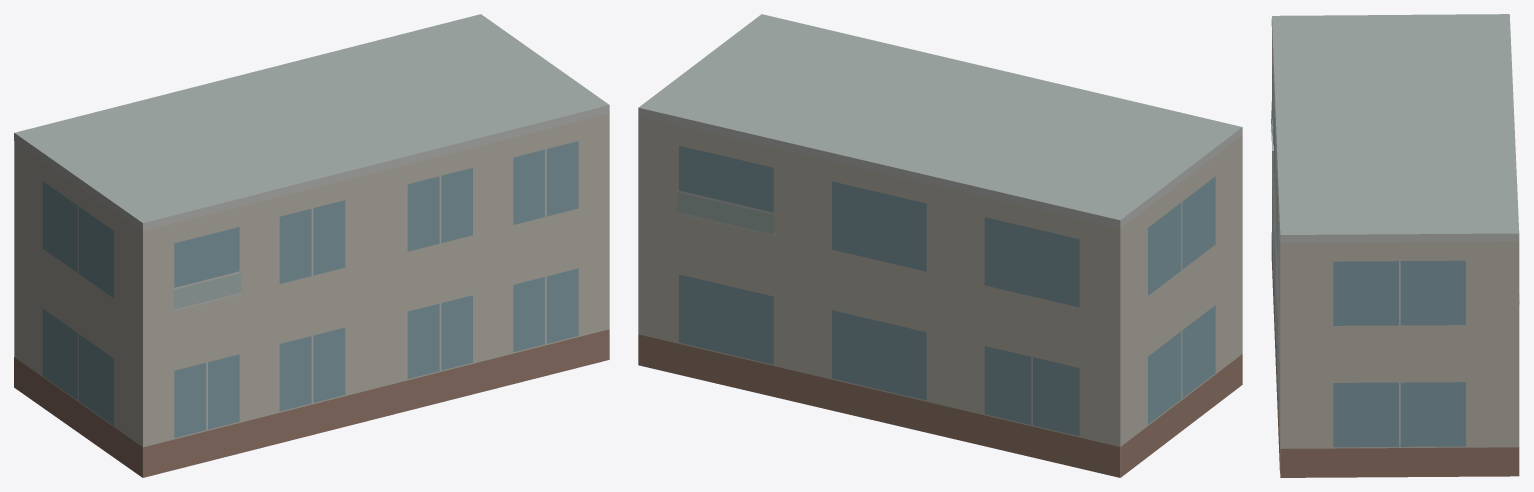
File: survey-upis-32635954.glb
3 renders of one model, left to right at view 1: azimuth 30°, elevation 25°; view 2: azimuth 150°, elevation 25°; view 3: azimuth 270°, elevation 25°, orthographic. The views are drawn at different scales.
Parts seen in each view (by area): view 1: survey-upis-32635954.tmp; view 2: survey-upis-32635954.tmp; view 3: survey-upis-32635954.tmp.
Boxes of the visible parts, x1=… form: survey-upis-32635954.tmp: x1=14, y1=14, x2=609, y2=477; survey-upis-32635954.tmp: x1=638, y1=14, x2=1242, y2=477; survey-upis-32635954.tmp: x1=1271, y1=14, x2=1519, y2=477.
Bounding box in the file's own units: 14.65 × 7.5 × 6.97.
